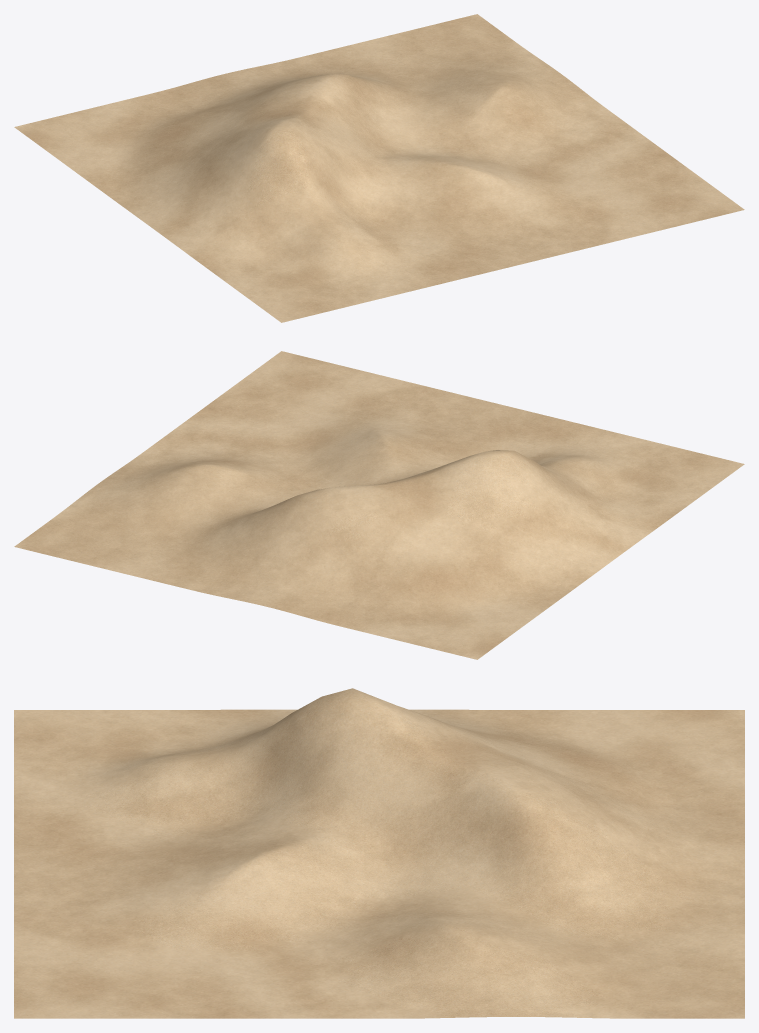
Rendered from dunas.fbx.
3 renders of one model, top to bottom at view 1: azimuth 30°, elevation 25°; view 2: azimuth 150°, elevation 25°; view 3: azimuth 270°, elevation 25°, orthographic. The views are drawn at different scales.
Parts seen in each view (by area): view 1: Plane; view 2: Plane; view 3: Plane.
Part boxes in pixels (<box>): Plane: <box>14,14,744,322</box>; Plane: <box>14,351,744,659</box>; Plane: <box>14,688,744,1018</box>.
Bounding box in the file's own units: 4403 × 658 × 4402.
